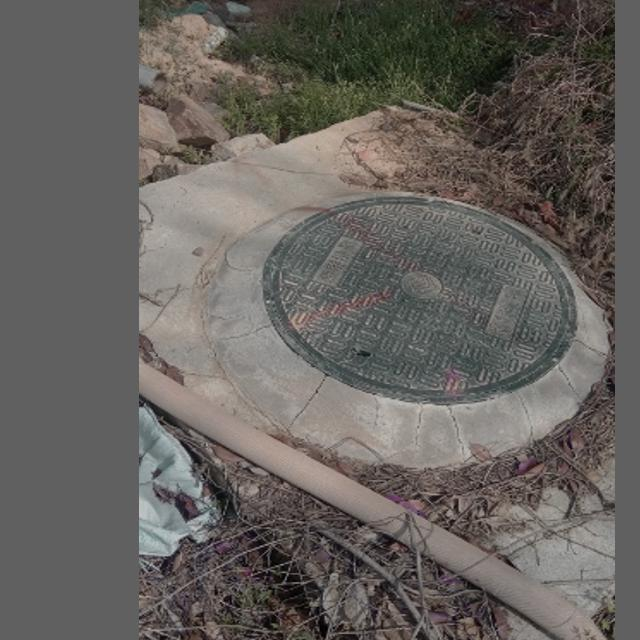good: (263, 193, 579, 400)
